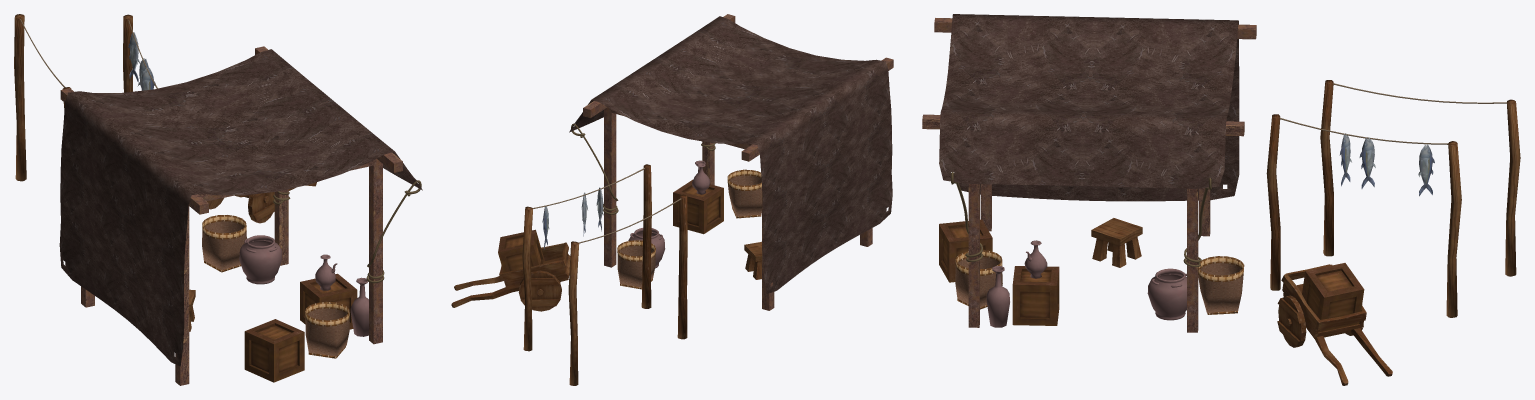
File: bld_market.glb
3 renders of one model, left to right at view 1: azimuth 30°, elevation 25°; view 2: azimuth 150°, elevation 25°; view 3: azimuth 270°, elevation 25°, orthographic. The views are drawn at different scales.
Visible parts, largest first — view 1: tenda.012_leather_0, tenda.012_pole.001_0, Crate_low.153_Crate_low_0, Cylinder.114_Wicker-pbr_0, Cylinder.110_Terakota_0, Jemuran_low.003_Jemuran_low_0, Cylinder.114_Wicker-non-pbr_0, gerobag-base_low.001_gerobag-roda_low_0, Fish_low.002_Fish_low_0, tenda.012_rope.004_0; view 2: tenda.012_leather_0, Jemuran_low.003_Jemuran_low_0, tenda.012_pole.001_0, Crate_low.153_Crate_low_0, Cylinder.114_Wicker-pbr_0, gerobag-base_low.001_gerobag-base_low_0, gerobag-base_low.001_gerobag-roda_low_0, Cylinder.114_Wicker-non-pbr_0, Cylinder.110_Terakota_0, Fish_low.002_Fish_low_0, Kursi_low.014_Kursi_low_0, tenda.012_rope.004_0 (+1 smaller); view 3: tenda.012_leather_0, Jemuran_low.003_Jemuran_low_0, Crate_low.153_Crate_low_0, tenda.012_pole.001_0, Cylinder.110_Terakota_0, Cylinder.114_Wicker-pbr_0, gerobag-base_low.001_gerobag-base_low_0, Kursi_low.014_Kursi_low_0, Fish_low.002_Fish_low_0, Cylinder.114_Wicker-non-pbr_0, gerobag-base_low.001_gerobag-roda_low_0, tenda.012_rope.004_0 (+1 smaller).
Part boxes in pixels (x1=…): tenda.012_leather_0: x1=59, y1=49, x2=422, y2=366; tenda.012_pole.001_0: x1=60, y1=46, x2=402, y2=385; Crate_low.153_Crate_low_0: x1=244, y1=273, x2=357, y2=382; Cylinder.114_Wicker-pbr_0: x1=202, y1=221, x2=349, y2=356; Cylinder.110_Terakota_0: x1=239, y1=235, x2=368, y2=336; Jemuran_low.003_Jemuran_low_0: x1=14, y1=14, x2=132, y2=181; Cylinder.114_Wicker-non-pbr_0: x1=202, y1=215, x2=349, y2=358; gerobag-base_low.001_gerobag-roda_low_0: x1=207, y1=192, x2=274, y2=223; Fish_low.002_Fish_low_0: x1=128, y1=32, x2=155, y2=90; tenda.012_rope.004_0: x1=273, y1=180, x2=421, y2=283; tenda.012_leather_0: x1=569, y1=16, x2=892, y2=293; Jemuran_low.003_Jemuran_low_0: x1=522, y1=164, x2=687, y2=385; tenda.012_pole.001_0: x1=583, y1=14, x2=893, y2=310; Crate_low.153_Crate_low_0: x1=498, y1=179, x2=723, y2=272; Cylinder.114_Wicker-pbr_0: x1=617, y1=175, x2=761, y2=287; gerobag-base_low.001_gerobag-base_low_0: x1=451, y1=242, x2=570, y2=307; gerobag-base_low.001_gerobag-roda_low_0: x1=518, y1=270, x2=561, y2=311; Cylinder.114_Wicker-non-pbr_0: x1=617, y1=169, x2=761, y2=289; Cylinder.110_Terakota_0: x1=628, y1=160, x2=710, y2=268; Fish_low.002_Fish_low_0: x1=542, y1=187, x2=603, y2=249; Kursi_low.014_Kursi_low_0: x1=744, y1=241, x2=761, y2=279; tenda.012_rope.004_0: x1=571, y1=123, x2=715, y2=214; tenda.012_leather_0: x1=939, y1=14, x2=1239, y2=201; Jemuran_low.003_Jemuran_low_0: x1=1266, y1=80, x2=1520, y2=317; Crate_low.153_Crate_low_0: x1=939, y1=219, x2=1364, y2=332; tenda.012_pole.001_0: x1=922, y1=18, x2=1256, y2=332; Cylinder.110_Terakota_0: x1=986, y1=240, x2=1186, y2=327; Cylinder.114_Wicker-pbr_0: x1=955, y1=257, x2=1243, y2=312; gerobag-base_low.001_gerobag-base_low_0: x1=1281, y1=264, x2=1392, y2=385; Kursi_low.014_Kursi_low_0: x1=1091, y1=218, x2=1142, y2=267; Fish_low.002_Fish_low_0: x1=1339, y1=133, x2=1434, y2=196; Cylinder.114_Wicker-non-pbr_0: x1=955, y1=250, x2=1244, y2=314; gerobag-base_low.001_gerobag-roda_low_0: x1=1277, y1=295, x2=1362, y2=347; tenda.012_rope.004_0: x1=951, y1=172, x2=1211, y2=266.
Bounding box in the file's own units: 5 × 3.01 × 7.67.
14 materials, 14 textured.
